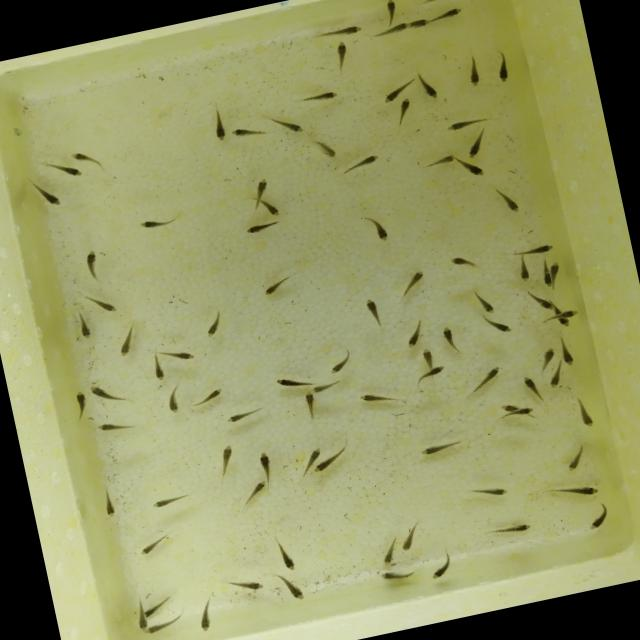fingerling: (538, 474, 602, 508), (218, 400, 270, 430), (395, 266, 432, 302), (417, 433, 468, 459), (464, 478, 514, 504), (30, 176, 64, 214), (220, 570, 266, 598), (464, 365, 504, 395), (568, 392, 598, 432), (78, 244, 107, 284), (84, 288, 120, 320), (482, 518, 532, 541), (314, 21, 364, 44), (378, 75, 417, 104), (458, 54, 487, 92), (87, 378, 123, 408), (228, 120, 268, 146), (460, 128, 492, 160), (276, 570, 306, 604), (136, 210, 182, 232), (270, 112, 306, 140), (272, 368, 310, 394), (158, 381, 186, 416), (442, 113, 486, 135), (495, 184, 524, 217), (522, 287, 556, 315), (69, 388, 94, 426), (559, 442, 590, 472), (148, 490, 194, 510), (190, 384, 228, 408), (194, 596, 218, 634), (340, 152, 383, 173), (52, 161, 88, 186), (324, 348, 356, 376), (583, 505, 615, 533), (389, 96, 417, 128), (112, 326, 138, 360), (380, 564, 420, 586), (215, 442, 240, 477), (457, 156, 488, 184), (134, 534, 170, 558), (274, 536, 298, 572), (481, 312, 514, 338), (438, 324, 463, 358), (242, 216, 282, 237), (366, 213, 392, 245), (258, 275, 294, 298), (472, 286, 499, 316), (209, 106, 230, 144), (370, 21, 412, 40), (311, 134, 339, 162), (446, 249, 480, 272), (425, 556, 455, 582), (416, 72, 442, 102), (360, 388, 398, 408), (300, 87, 340, 106), (522, 238, 560, 258), (401, 318, 426, 348), (362, 296, 384, 330), (491, 50, 513, 84), (162, 344, 196, 366), (95, 416, 132, 436), (396, 525, 422, 553), (201, 310, 226, 339), (68, 144, 98, 168), (556, 332, 576, 368), (242, 478, 269, 504), (378, 538, 402, 567), (519, 372, 542, 402), (142, 596, 172, 619), (142, 619, 178, 638), (256, 448, 276, 482), (99, 484, 119, 518), (535, 344, 559, 372), (332, 39, 353, 71), (419, 152, 456, 170), (414, 364, 449, 383), (76, 309, 96, 342), (310, 376, 346, 394), (251, 173, 274, 200), (428, 6, 466, 22), (416, 344, 438, 370), (302, 390, 319, 422), (260, 196, 282, 220), (380, 0, 401, 25), (150, 354, 168, 383), (545, 366, 566, 390), (537, 258, 553, 288), (311, 457, 339, 474), (546, 258, 564, 284), (516, 257, 533, 284), (134, 603, 148, 631), (411, 14, 432, 32), (498, 399, 518, 416), (556, 307, 582, 320), (516, 402, 538, 417), (306, 446, 324, 464), (555, 316, 573, 329)
